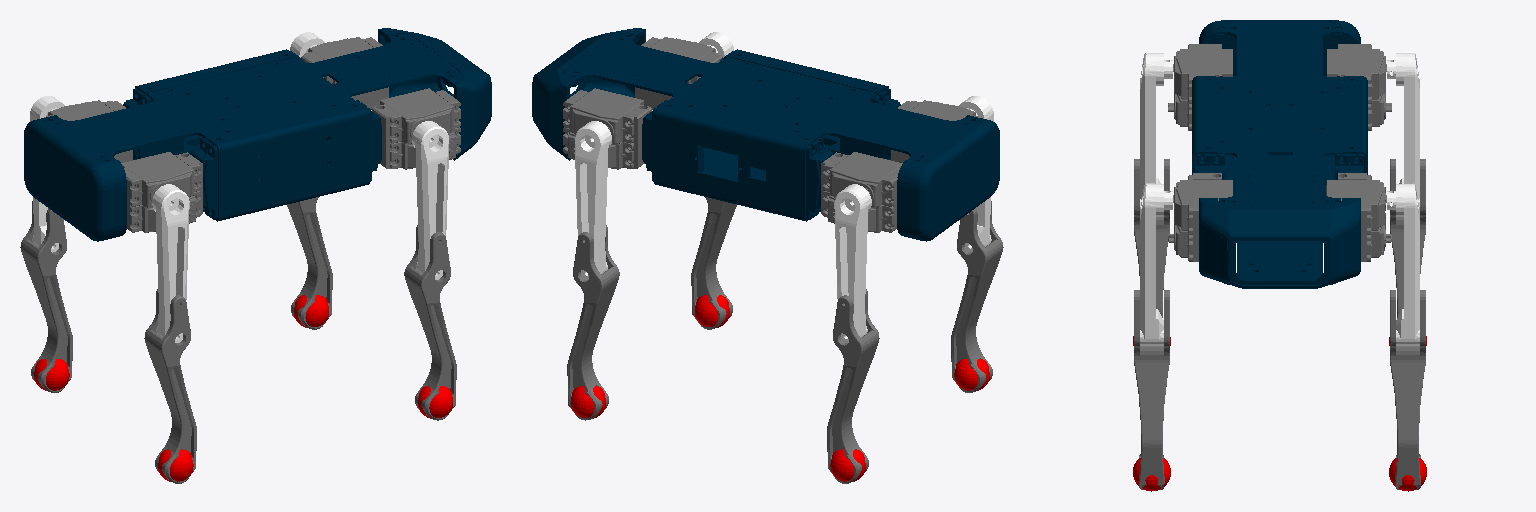
The robot description file, URDF, robot "robot":
<?xml version="1.0"?>
<robot>

  <material name="blue"><color rgba="0 0.2 0.3 1"/></material>
  <material name="white"><color rgba="1 1 1 1"/></material>
  <material name="grey"><color rgba="0.5 0.5 0.5 1"/></material>
  <material name="red"><color rgba="1 0 0 1"/></material>

  <link name="base_link">
    <visual>
      <geometry>
        <mesh filename="meshes/body.stl" scale="1 1 1"/>
      </geometry>
      <origin xyz="0 0 0" rpy="0 0 0"/> 
      <material name="blue"/>
    </visual>
    <collision>
      <geometry>
        <mesh filename="meshes/body.stl" scale="1 1 1"/>
      </geometry>
      <origin xyz="0 0 0" rpy="0 0 0"/> 
    </collision>
    <inertial>
      <mass value="1.0"/>
      <origin xyz="0.001 0.0 0.001" rpy="0 0 0"/>
      <inertia ixx="0.001" ixy="0" ixz="0" iyy="0.003" iyz="0" izz="0.0031"/>
    </inertial>
  </link>

  <joint name="FL_hip_joint" type="revolute">
    <parent link="base_link"/>
    <child link="FL_hip_link"/>
    <origin xyz="0.074 0.0473 0.0115" rpy="0 0 0"/>
    <axis xyz="1 0 0"/> 
    <limit lower="-1" upper="1" effort="3.43" velocity="7.48"/>
    <dynamics damping="0.05" friction="0.0"/>
  </joint>

  <link name="FL_hip_link">
    <visual>
      <geometry>
        <mesh filename="meshes/fl_hip.stl" scale="1 1 1"/>
      </geometry>
      <origin xyz="0 0 0" rpy="0 0 3.14"/>
      <material name="grey"/>
    </visual>
    <collision>
      <geometry>
        <mesh filename="meshes/fl_hip.stl" scale="1 1 1"/>
      </geometry>
      <origin xyz="0 0 0" rpy="0 0 3.14"/>
    </collision>
    <inertial>
      <mass value="0.318"/>
      <origin xyz="-0.031 -0.01 -0.01" rpy="0 0 0"/>
      <inertia ixx="0.00015" ixy="0" ixz="0" iyy="0.00015" iyz="0" izz="0.00015"/>
    </inertial>
  </link>

  <joint name="FL_thigh_joint" type="revolute">
    <parent link="FL_hip_link"/>
    <child link="FL_thigh_link"/>
    <origin xyz="0.021 0.0255 -0.001" rpy="0 0 0"/>
    <axis xyz="0 1 0"/> 
    <limit lower="-3.14" upper="3.14" effort="3.43" velocity="7.48"/>
    <dynamics damping="0.05" friction="0.0"/>
  </joint>

  <link name="FL_thigh_link">
    <visual>
      <geometry>
        <mesh filename="meshes/fl_thigh.stl" scale="1 1 1"/>
      </geometry>
      <origin xyz="0 0 0" rpy="0 0 0"/>
      <material name="white"/>
    </visual>
    <collision>
      <geometry>
        <mesh filename="meshes/fl_thigh.stl" scale="1 1 1"/>
      </geometry>
      <origin xyz="0 0 0" rpy="0 0 0"/>
    </collision>
    <inertial>
      <mass value="0.055"/>
      <origin xyz="0.0 -0.014 -0.044" rpy="0 0 0"/>
      <inertia ixx="0.0001" ixy="0" ixz="0" iyy="0.0005" iyz="0" izz="0.0005"/>
    </inertial>
  </link>

  <joint name="FL_calf_joint" type="revolute">
    <parent link="FL_thigh_link"/>
    <child link="FL_calf_link"/>
    <origin xyz="0 0.014 -0.1" rpy="0 0 0"/>
    <axis xyz="0 1 0"/> 
    <limit lower="-3.14" upper="0" effort="3.43" velocity="7.48"/>
    <dynamics damping="0.05" friction="0.0"/>
  </joint>

  <link name="FL_calf_link">
    <visual>
      <geometry>
        <mesh filename="meshes/fl_calf.stl" scale="1 1 1"/>
      </geometry>
      <origin xyz="0 0 0" rpy="0 0 0"/>
      <material name="grey"/>
    </visual>
    <collision>
      <geometry>
        <mesh filename="meshes/fl_calf.stl" scale="1 1 1"/>
      </geometry>
      <origin xyz="0 0 0" rpy="0 0 0"/>
    </collision>
    <inertial>
      <mass value="0.047"/>
      <origin xyz="0.001 0.0 -0.088" rpy="0 0 0"/>
      <inertia ixx="0.00008" ixy="0" ixz="0" iyy="0.0004" iyz="0" izz="0.0004"/>
    </inertial>
  </link>

  <joint name="FL_foot_fixed" type="fixed">
    <parent link="FL_calf_link"/>
    <child link="FL_foot"/>
    <origin xyz="0.003 0 -0.102" rpy="0 0 0"/>
  </joint>

  <link name="FL_foot">
    <visual>
      <geometry><sphere radius="0.013"/></geometry>
      <material name="red"><color rgba="1 0 0 1"/></material>
    </visual>
    <collision>
      <geometry><sphere radius="0.015"/></geometry>
    </collision>
    <inertial>
      <mass value="0.05"/>
      <origin xyz="0 0 0" rpy="0 0 0"/>
      <inertia ixx="0.0001" ixy="0" ixz="0" iyy="0.0001" iyz="0" izz="0.0001"/>
    </inertial>
  </link>

  <joint name="FR_hip_joint" type="revolute">
    <parent link="base_link"/>
    <child link="FR_hip_link"/>
    <origin xyz="0.074 -0.0473 0.0115" rpy="0 0 0"/>
    <axis xyz="1 0 0"/> 
    <limit lower="-1" upper="1" effort="3.43" velocity="7.48"/>
    <dynamics damping="0.05" friction="0.0"/>
  </joint>

  <link name="FR_hip_link">
    <visual>
      <geometry>
        <mesh filename="meshes/fr_hip.stl" scale="1 1 1"/>
      </geometry>
      <origin xyz="0 0 0" rpy="0 0 0"/>
      <material name="grey"/>
    </visual>
    <collision>
      <geometry>
        <mesh filename="meshes/fr_hip.stl" scale="1 1 1"/>
      </geometry>
      <origin xyz="0 0 0" rpy="0 0 0"/>
    </collision>
    <inertial>
      <mass value="0.318"/>
      <origin xyz="-0.031 0.01 -0.01" rpy="0 0 0"/>
      <inertia ixx="0.00015" ixy="0" ixz="0" iyy="0.00015" iyz="0" izz="0.00015"/>
    </inertial>
  </link>

  <joint name="FR_thigh_joint" type="revolute">
    <parent link="FR_hip_link"/>
    <child link="FR_thigh_link"/>
    <origin xyz="0.021 -0.0255 -0.001" rpy="0 0 0"/>
    <axis xyz="0 1 0"/> 
    <limit lower="-3.14" upper="3.14" effort="3.43" velocity="7.48"/>
    <dynamics damping="0.05" friction="0.0"/>
  </joint>

  <link name="FR_thigh_link">
    <visual>
      <geometry>
        <mesh filename="meshes/fr_thigh.stl" scale="1 1 1"/>
      </geometry>
      <origin xyz="0 0 0" rpy="0 0 0"/>
      <material name="white"/>
    </visual>
    <collision>
      <geometry>
        <mesh filename="meshes/fr_thigh.stl" scale="1 1 1"/>
      </geometry>
      <origin xyz="0 0 0" rpy="0 0 0"/>
    </collision>
    <inertial>
      <mass value="0.055"/>
      <origin xyz="0.0 0.014 -0.044" rpy="0 0 0"/>
      <inertia ixx="0.0001" ixy="0" ixz="0" iyy="0.0005" iyz="0" izz="0.0005"/>
    </inertial>
  </link>

  <joint name="FR_calf_joint" type="revolute">
    <parent link="FR_thigh_link"/>
    <child link="FR_calf_link"/>
    <origin xyz="0 -0.014 -0.1" rpy="0 0 0"/>
    <axis xyz="0 1 0"/> 
    <limit lower="-3.14" upper="0" effort="3.43" velocity="7.48"/>
    <dynamics damping="0.05" friction="0.0"/>
  </joint>

  <link name="FR_calf_link">
    <visual>
      <geometry>
        <mesh filename="meshes/fl_calf.stl" scale="1 1 1"/>
      </geometry>
      <origin xyz="0 0 0" rpy="0 0 0"/>
      <material name="grey"/>
    </visual>
    <collision>
      <geometry>
        <mesh filename="meshes/fl_calf.stl" scale="1 1 1"/>
      </geometry>
      <origin xyz="0 0 0" rpy="0 0 0"/>
    </collision>
    <inertial>
      <mass value="0.047"/>
      <origin xyz="0.001 0.0 -0.088" rpy="0 0 0"/>
      <inertia ixx="0.00008" ixy="0" ixz="0" iyy="0.0004" iyz="0" izz="0.0004"/>
    </inertial>
  </link>

  <joint name="FR_foot_fixed" type="fixed">
    <parent link="FR_calf_link"/>
    <child link="FR_foot"/>
    <origin xyz="0.003 0 -0.102" rpy="0 0 0"/>
  </joint>

  <link name="FR_foot">
    <visual>
      <geometry><sphere radius="0.013"/></geometry>
      <material name="red"><color rgba="1 0 0 1"/></material>
    </visual>
    <collision>
      <geometry><sphere radius="0.015"/></geometry>
    </collision>
    <inertial>
      <mass value="0.05"/>
      <origin xyz="0 0 0" rpy="0 0 0"/>
      <inertia ixx="0.0001" ixy="0" ixz="0" iyy="0.0001" iyz="0" izz="0.0001"/>
    </inertial>
  </link>

  <joint name="RL_hip_joint" type="revolute">
    <parent link="base_link"/>
    <child link="RL_hip_link"/>
    <origin xyz="-0.074 0.0473 0.0115" rpy="0 0 0"/>
    <axis xyz="1 0 0"/> 
    <limit lower="-1" upper="1" effort="3.43" velocity="7.48"/>
    <dynamics damping="0.05" friction="0.0"/>
  </joint>

  <link name="RL_hip_link">
    <visual>
      <geometry>
        <mesh filename="meshes/rl_hip.stl" scale="1 1 1"/>
      </geometry>
      <origin xyz="0 0 0" rpy="0 0 3.14"/>
      <material name="grey"/>
    </visual>
    <collision>
      <geometry>
        <mesh filename="meshes/rl_hip.stl" scale="1 1 1"/>
      </geometry>
      <origin xyz="0 0 0" rpy="0 0 3.14"/>
    </collision>
    <inertial>
      <mass value="0.318"/>
      <origin xyz="-0.031 -0.01 -0.01" rpy="0 0 0"/>
      <inertia ixx="0.00015" ixy="0" ixz="0" iyy="0.00015" iyz="0" izz="0.00015"/>
    </inertial>
  </link>

  <joint name="RL_thigh_joint" type="revolute">
    <parent link="RL_hip_link"/>
    <child link="RL_thigh_link"/>
    <origin xyz="-0.041 0.0255 -0.001" rpy="0 0 0"/>
    <axis xyz="0 1 0"/> 
    <limit lower="-3.14" upper="3.14" effort="3.43" velocity="7.48"/>
    <dynamics damping="0.05" friction="0.0"/>
  </joint>

  <link name="RL_thigh_link">
    <visual>
      <geometry>
        <mesh filename="meshes/fl_thigh.stl" scale="1 1 1"/>
      </geometry>
      <origin xyz="0 0 0" rpy="0 0 0"/>
      <material name="white"/>
    </visual>
    <collision>
      <geometry>
        <mesh filename="meshes/fl_thigh.stl" scale="1 1 1"/>
      </geometry>
      <origin xyz="0 0 0" rpy="0 0 0"/>
    </collision>
    <inertial>
      <mass value="0.055"/>
      <origin xyz="0.0 -0.014 -0.044" rpy="0 0 0"/>
      <inertia ixx="0.0001" ixy="0" ixz="0" iyy="0.0005" iyz="0" izz="0.0005"/>
    </inertial>
  </link>

  <joint name="RL_calf_joint" type="revolute">
    <parent link="RL_thigh_link"/>
    <child link="RL_calf_link"/>
    <origin xyz="0 0.014 -0.1" rpy="0 0 0"/>
    <axis xyz="0 1 0"/> 
    <limit lower="-3.14" upper="0" effort="3.43" velocity="7.48"/>
    <dynamics damping="0.05" friction="0.0"/>
  </joint>

  <link name="RL_calf_link">
    <visual>
      <geometry>
        <mesh filename="meshes/fl_calf.stl" scale="1 1 1"/>
      </geometry>
      <origin xyz="0 0 0" rpy="0 0 0"/>
      <material name="grey"/>
    </visual>
    <collision>
      <geometry>
        <mesh filename="meshes/fl_calf.stl" scale="1 1 1"/>
      </geometry>
      <origin xyz="0 0 0" rpy="0 0 0"/>
    </collision>
    <inertial>
      <mass value="0.047"/>
      <origin xyz="0.001 0.0 -0.088" rpy="0 0 0"/>
      <inertia ixx="0.00008" ixy="0" ixz="0" iyy="0.0004" iyz="0" izz="0.0004"/>
    </inertial>
  </link>

  <joint name="RL_foot_fixed" type="fixed">
    <parent link="RL_calf_link"/>
    <child link="RL_foot"/>
    <origin xyz="0.003 0 -0.102" rpy="0 0 0"/>
  </joint>

  <link name="RL_foot">
    <visual>
      <geometry><sphere radius="0.013"/></geometry>
      <material name="red"><color rgba="1 0 0 1"/></material>
    </visual>
    <collision>
      <geometry><sphere radius="0.015"/></geometry>
    </collision>
    <inertial>
      <mass value="0.05"/>
      <origin xyz="0 0 0" rpy="0 0 0"/>
      <inertia ixx="0.0001" ixy="0" ixz="0" iyy="0.0001" iyz="0" izz="0.0001"/>
    </inertial>
  </link>

  <joint name="RR_hip_joint" type="revolute">
    <parent link="base_link"/>
    <child link="RR_hip_link"/>
    <origin xyz="-0.074 -0.0473 0.0115" rpy="0 0 0"/>
    <axis xyz="1 0 0"/> 
    <limit lower="-1" upper="1" effort="3.43" velocity="7.48"/>
    <dynamics damping="0.05" friction="0.0"/>
  </joint>

  <link name="RR_hip_link">
    <visual>
      <geometry>
        <mesh filename="meshes/rr_hip.stl" scale="1 1 1"/>
      </geometry>
      <origin xyz="0 0 0" rpy="0 0 0"/>
      <material name="grey"/>
    </visual>
    <collision>
      <geometry>
        <mesh filename="meshes/rr_hip.stl" scale="1 1 1"/>
      </geometry>
      <origin xyz="0 0 0" rpy="0 0 0"/>
    </collision>
    <inertial>
      <mass value="0.318"/>
      <origin xyz="-0.031 0.01 -0.01" rpy="0 0 0"/>
      <inertia ixx="0.00015" ixy="0" ixz="0" iyy="0.00015" iyz="0" izz="0.00015"/>
    </inertial>
  </link>

  <joint name="RR_thigh_joint" type="revolute">
    <parent link="RR_hip_link"/>
    <child link="RR_thigh_link"/>
    <origin xyz="-0.041 -0.0255 -0.001" rpy="0 0 0"/>
    <axis xyz="0 1 0"/> 
    <limit lower="-3.14" upper="3.14" effort="3.43" velocity="7.48"/>
    <dynamics damping="0.05" friction="0.0"/>
  </joint>

  <link name="RR_thigh_link">
    <visual>
      <geometry>
        <mesh filename="meshes/fr_thigh.stl" scale="1 1 1"/>
      </geometry>
      <origin xyz="0 0 0" rpy="0 0 0"/>
      <material name="white"/>
    </visual>
    <collision>
      <geometry>
        <mesh filename="meshes/fr_thigh.stl" scale="1 1 1"/>
      </geometry>
      <origin xyz="0 0 0" rpy="0 0 0"/>
    </collision>
    <inertial>
      <mass value="0.055"/>
      <origin xyz="0.0 0.014 -0.044" rpy="0 0 0"/>
      <inertia ixx="0.0001" ixy="0" ixz="0" iyy="0.0005" iyz="0" izz="0.0005"/>
    </inertial>
  </link>

  <joint name="RR_calf_joint" type="revolute">
    <parent link="RR_thigh_link"/>
    <child link="RR_calf_link"/>
    <origin xyz="0 -0.014 -0.1" rpy="0 0 0"/>
    <axis xyz="0 1 0"/> 
    <limit lower="-3.14" upper="0" effort="3.43" velocity="7.48"/>
    <dynamics damping="0.05" friction="0.0"/>
  </joint>

  <link name="RR_calf_link">
    <visual>
      <geometry>
        <mesh filename="meshes/fl_calf.stl" scale="1 1 1"/>
      </geometry>
      <origin xyz="0 0 0" rpy="0 0 0"/>
      <material name="grey"/>
    </visual>
    <collision>
      <geometry>
        <mesh filename="meshes/fl_calf.stl" scale="1 1 1"/>
      </geometry>
      <origin xyz="0 0 0" rpy="0 0 0"/>
    </collision>
    <inertial>
      <mass value="0.047"/>
      <origin xyz="0.001 0.0 -0.088" rpy="0 0 0"/>
      <inertia ixx="0.00008" ixy="0" ixz="0" iyy="0.0004" iyz="0" izz="0.0004"/>
    </inertial>
  </link>

  <joint name="RR_foot_fixed" type="fixed">
    <parent link="RR_calf_link"/>
    <child link="RR_foot"/>
    <origin xyz="0.003 0 -0.102" rpy="0 0 0"/>
  </joint>

  <link name="RR_foot">
    <visual>
      <geometry><sphere radius="0.013"/></geometry>
      <material name="red"><color rgba="1 0 0 1"/></material>
    </visual>
    <collision>
      <geometry><sphere radius="0.015"/></geometry>
    </collision>
    <inertial>
      <mass value="0.05"/>
      <origin xyz="0 0 0" rpy="0 0 0"/>
      <inertia ixx="0.0001" ixy="0" ixz="0" iyy="0.0001" iyz="0" izz="0.0001"/>
    </inertial>
  </link>

</robot>

--- What the picture shows (computed from the rendered views, not written in the file) ---
The picture shows the robot from 3 angles, left to right: view 1: azimuth 30°, elevation 25°; view 2: azimuth 150°, elevation 25°; view 3: azimuth 270°, elevation 25°; orthographic projection.
Robot: robot — 17 links, 16 joints (12 revolute, 4 fixed); root link base_link; default pose: all joints at 0.
Visible links, largest first — view 1: base_link, FR_calf_link, RR_calf_link, RL_calf_link, FR_hip_link, RR_hip_link, RR_thigh_link, FR_thigh_link, FL_calf_link, FL_hip_link, RL_thigh_link, RL_hip_link (+4 smaller); view 2: base_link, FL_calf_link, RL_calf_link, RR_calf_link, FL_hip_link, RL_hip_link, RL_thigh_link, FL_thigh_link, FR_calf_link, FR_hip_link, RR_thigh_link, RR_hip_link (+4 smaller); view 3: base_link, FL_calf_link, FR_calf_link, FR_thigh_link, FL_thigh_link, FL_hip_link, FR_hip_link, RL_hip_link, RR_hip_link, RL_thigh_link, RR_thigh_link, RR_calf_link (+1 smaller).
Boxes of the visible links, x1=… form: base_link: x1=24, y1=28, x2=491, y2=241; FR_calf_link: x1=404, y1=225, x2=456, y2=420; RR_calf_link: x1=144, y1=289, x2=196, y2=483; RL_calf_link: x1=20, y1=201, x2=72, y2=392; FR_hip_link: x1=372, y1=88, x2=460, y2=169; RR_hip_link: x1=121, y1=152, x2=202, y2=232; RR_thigh_link: x1=152, y1=184, x2=189, y2=342; FR_thigh_link: x1=412, y1=121, x2=448, y2=279; FL_calf_link: x1=287, y1=197, x2=332, y2=329; FL_hip_link: x1=301, y1=37, x2=388, y2=109; RL_thigh_link: x1=30, y1=96, x2=64, y2=252; RL_hip_link: x1=44, y1=100, x2=132, y2=162; base_link: x1=532, y1=28, x2=999, y2=241; FL_calf_link: x1=567, y1=225, x2=619, y2=420; RL_calf_link: x1=827, y1=289, x2=879, y2=483; RR_calf_link: x1=951, y1=201, x2=1003, y2=392; FL_hip_link: x1=563, y1=88, x2=651, y2=169; RL_hip_link: x1=821, y1=152, x2=902, y2=232; RL_thigh_link: x1=834, y1=184, x2=871, y2=342; FL_thigh_link: x1=575, y1=121, x2=611, y2=279; FR_calf_link: x1=691, y1=197, x2=736, y2=329; FR_hip_link: x1=635, y1=37, x2=722, y2=109; RR_thigh_link: x1=959, y1=96, x2=993, y2=252; RR_hip_link: x1=891, y1=100, x2=979, y2=162; base_link: x1=1192, y1=20, x2=1367, y2=288; FL_calf_link: x1=1390, y1=290, x2=1425, y2=489; FR_calf_link: x1=1134, y1=290, x2=1169, y2=489; FR_thigh_link: x1=1140, y1=183, x2=1172, y2=345; FL_thigh_link: x1=1387, y1=183, x2=1419, y2=345; FL_hip_link: x1=1326, y1=173, x2=1391, y2=261; FR_hip_link: x1=1168, y1=173, x2=1232, y2=261; RL_hip_link: x1=1327, y1=44, x2=1391, y2=130; RR_hip_link: x1=1168, y1=44, x2=1232, y2=130; RL_thigh_link: x1=1387, y1=53, x2=1419, y2=208; RR_thigh_link: x1=1140, y1=53, x2=1172, y2=208; RR_calf_link: x1=1134, y1=159, x2=1169, y2=317.
Size in the robot's own frame: 0.329 by 0.1996 by 0.2353 metres.
13 mesh visuals loaded from 8 distinct referenced files (8 binary STL).
